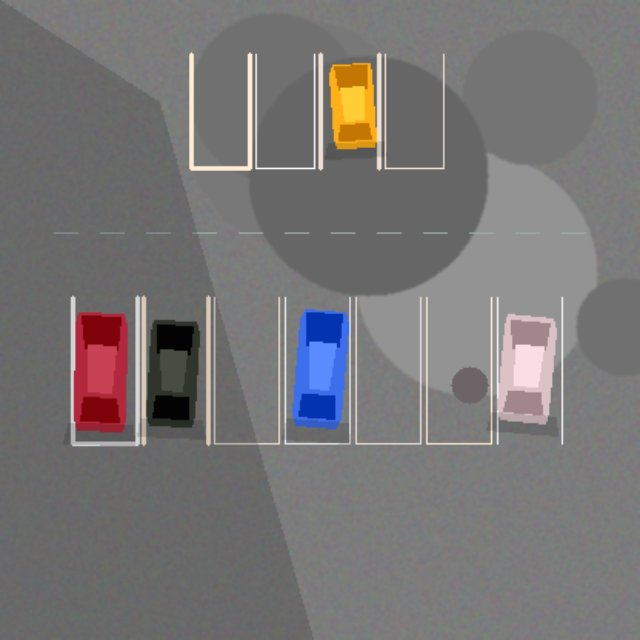space-empty: (355, 297, 420, 443), (426, 297, 491, 443), (214, 297, 278, 443), (255, 54, 314, 168), (191, 54, 249, 168), (385, 54, 443, 168)
space-occupied: (72, 297, 137, 443), (143, 297, 208, 443), (497, 297, 562, 443), (285, 297, 349, 443), (320, 54, 378, 168)
